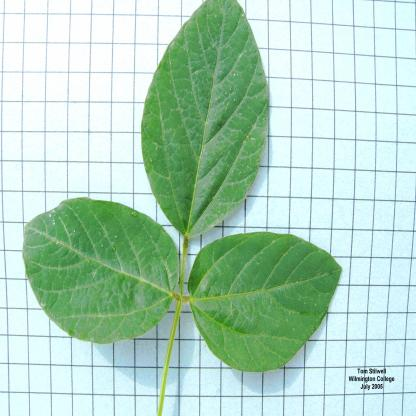soybean leaf: (138, 0, 273, 239), (19, 195, 179, 343), (188, 229, 344, 374)
